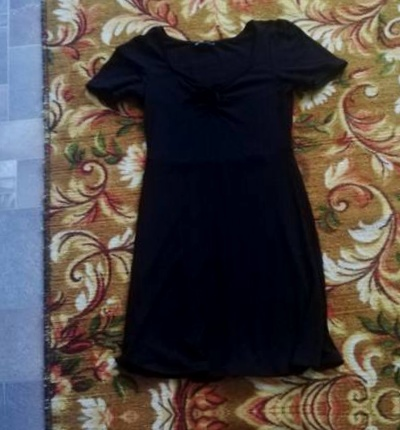Dress: (53, 2, 397, 391)
